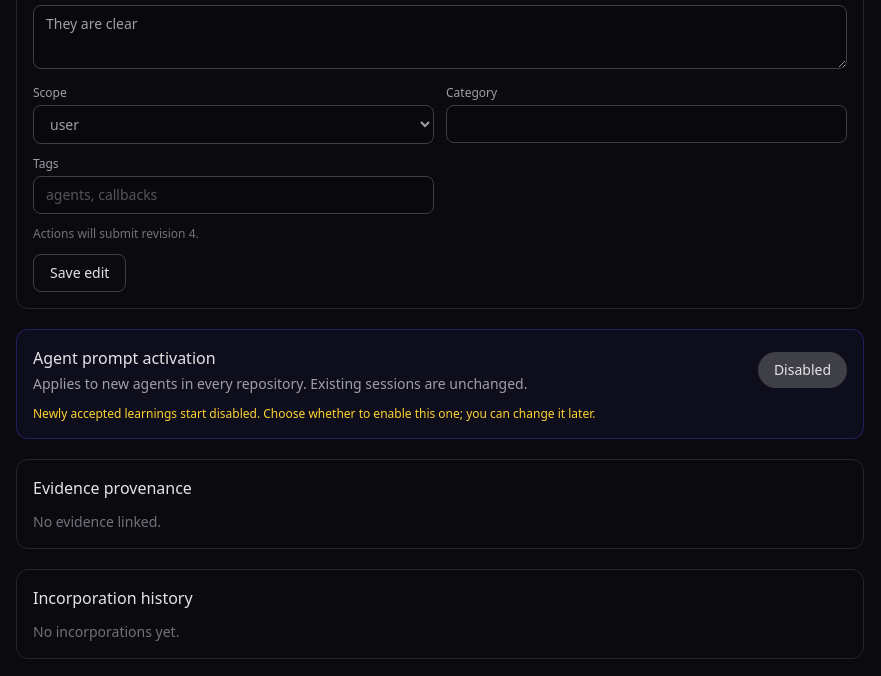
Test: learning curation pages › toggles prompt activation for a validated learning
(page scrolled)
Click the switch labelled "Disabled" at (802, 370), box [758,352,847,388]
(page scrolled)
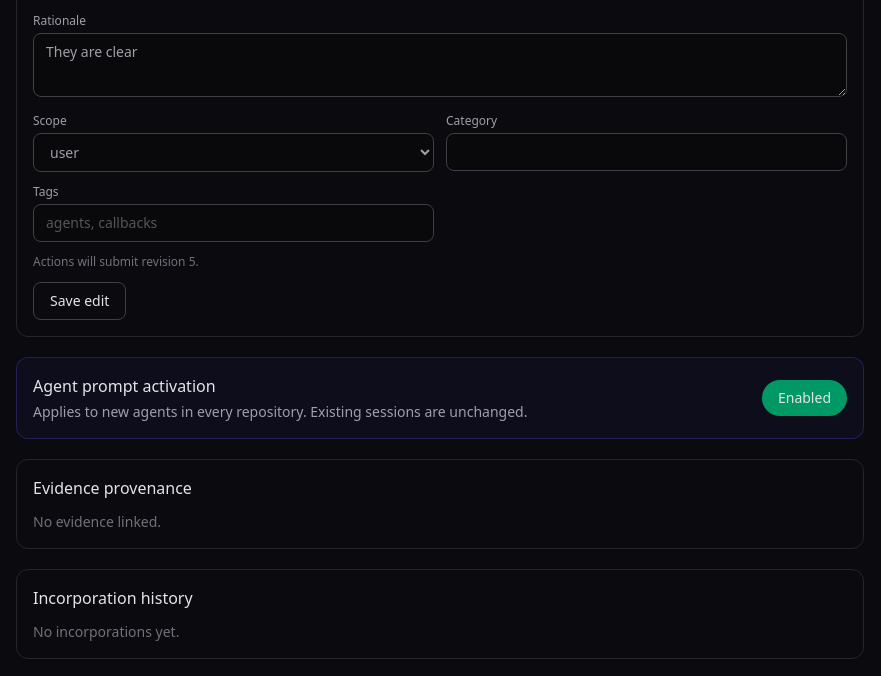
Now the switch labelled "Enabled" is shown, box [762,380,847,416]
